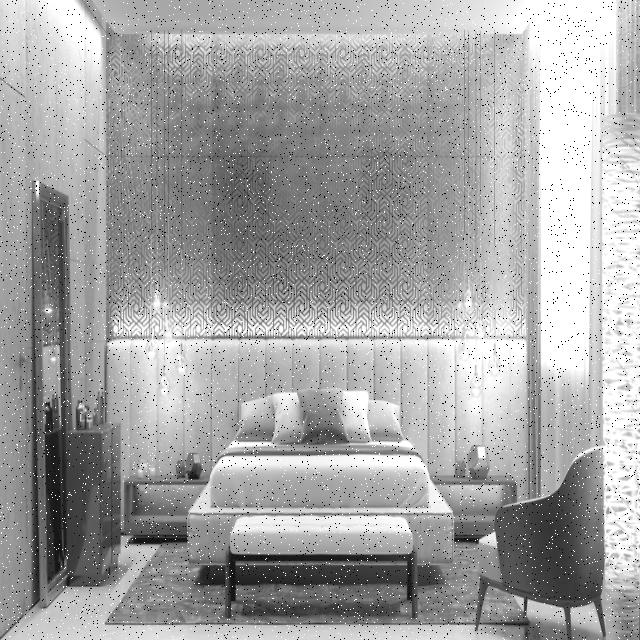bed: (194, 382, 452, 509)
